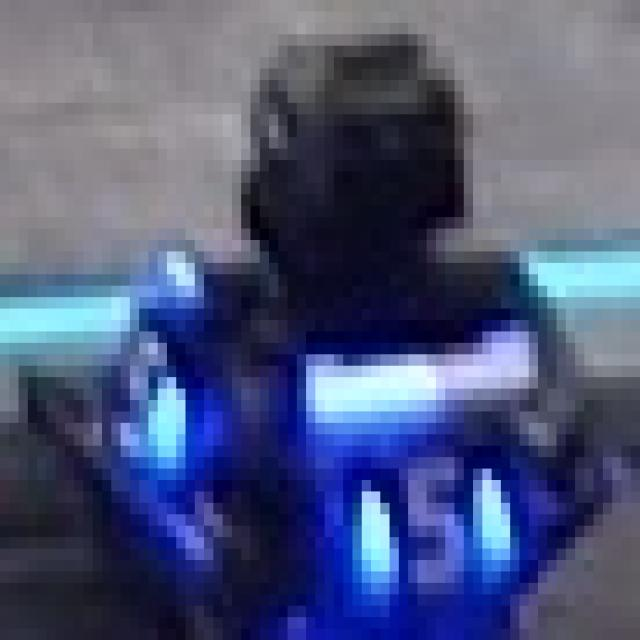B5: (353, 446, 510, 594), (102, 297, 204, 492)
